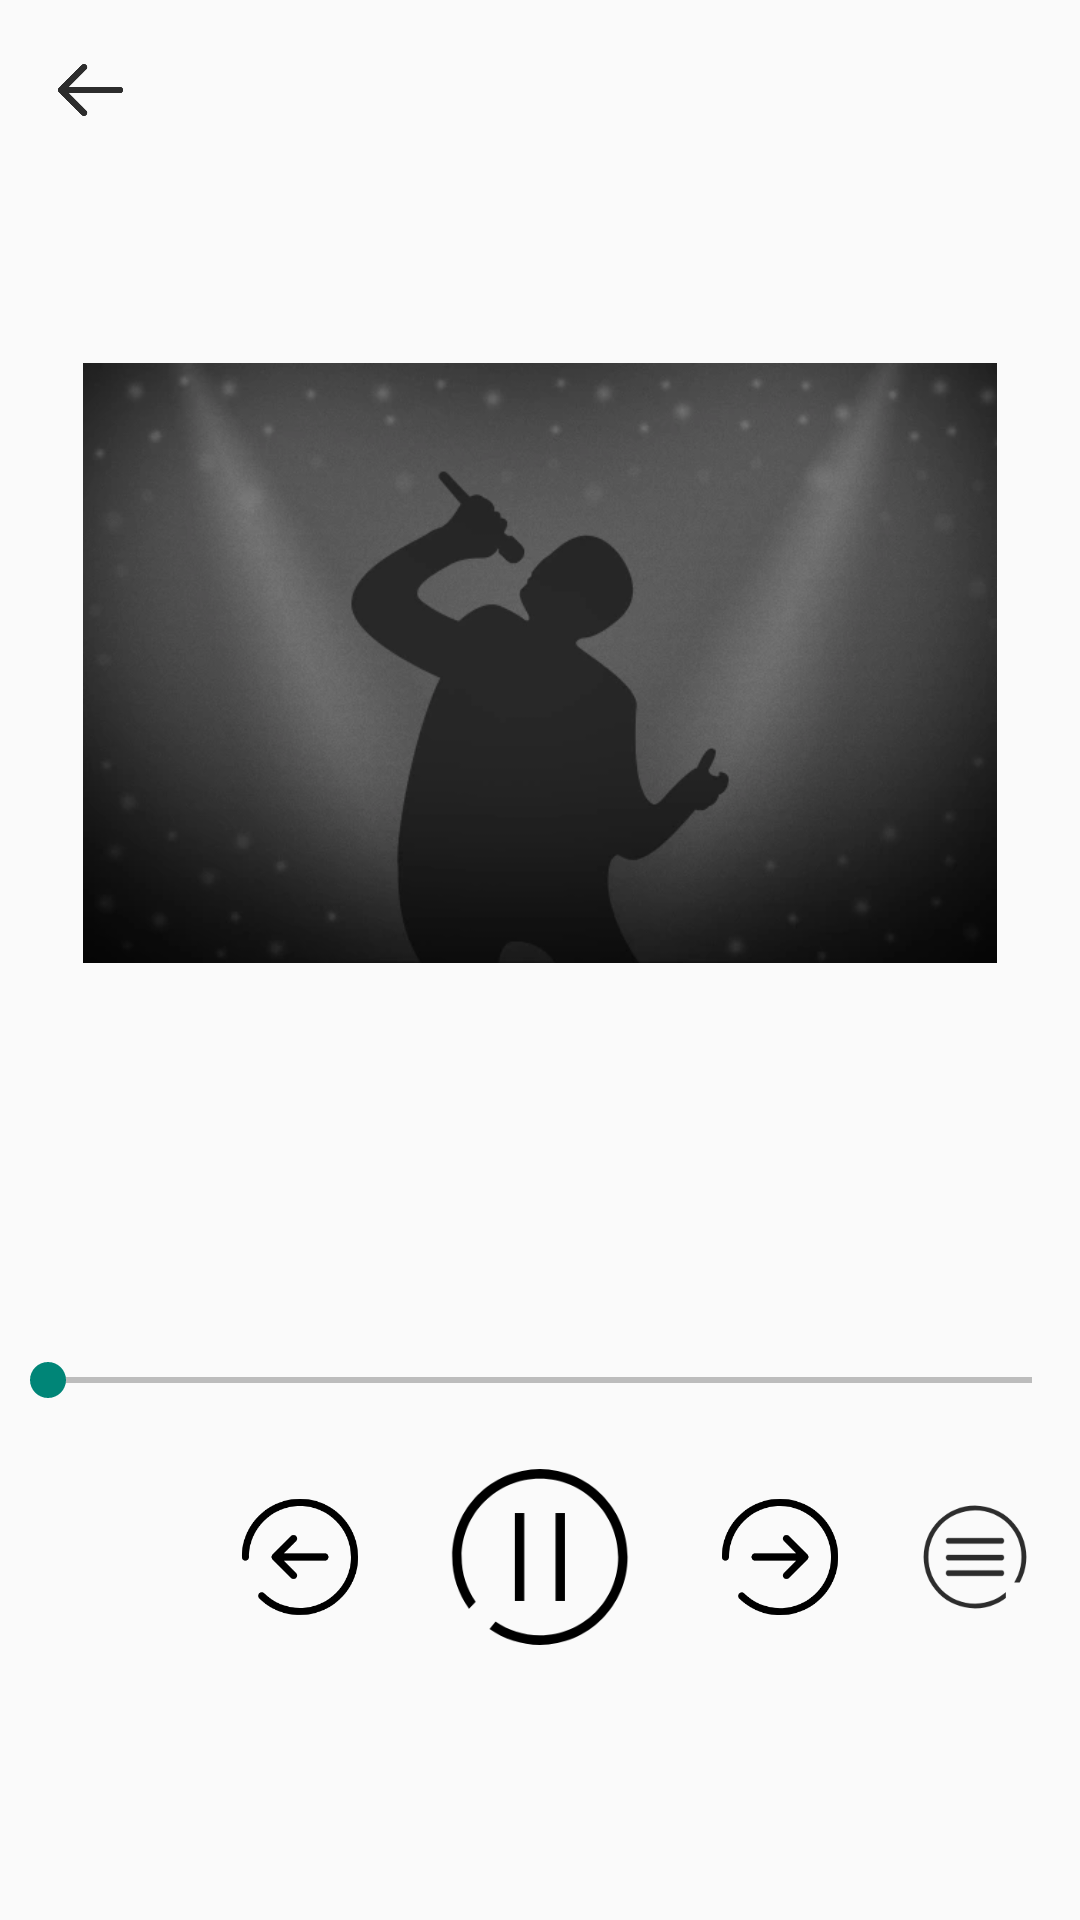

Screen size 1080 x 1920. Icon name, then its center in pixels as [x,y]:
left: [300,1557]
list: [975,1557]
right: [780,1557]
